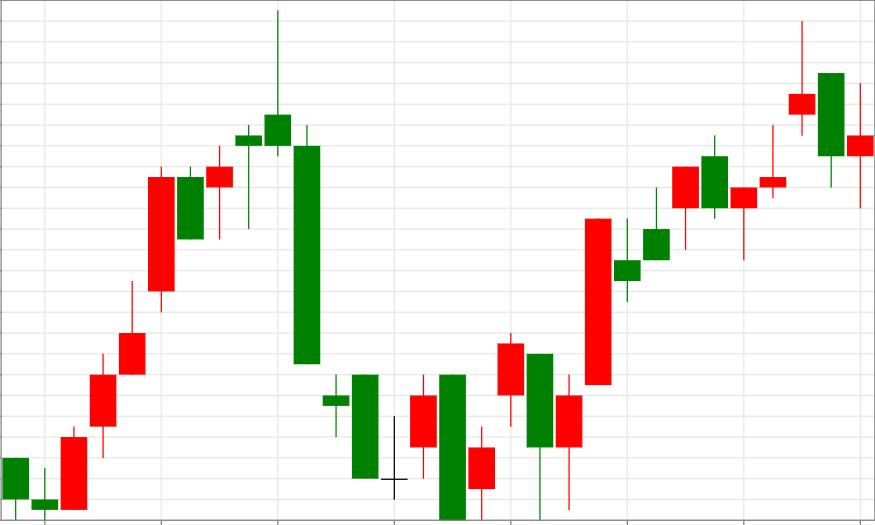shooting_star_fall: (32, 9, 291, 519)
